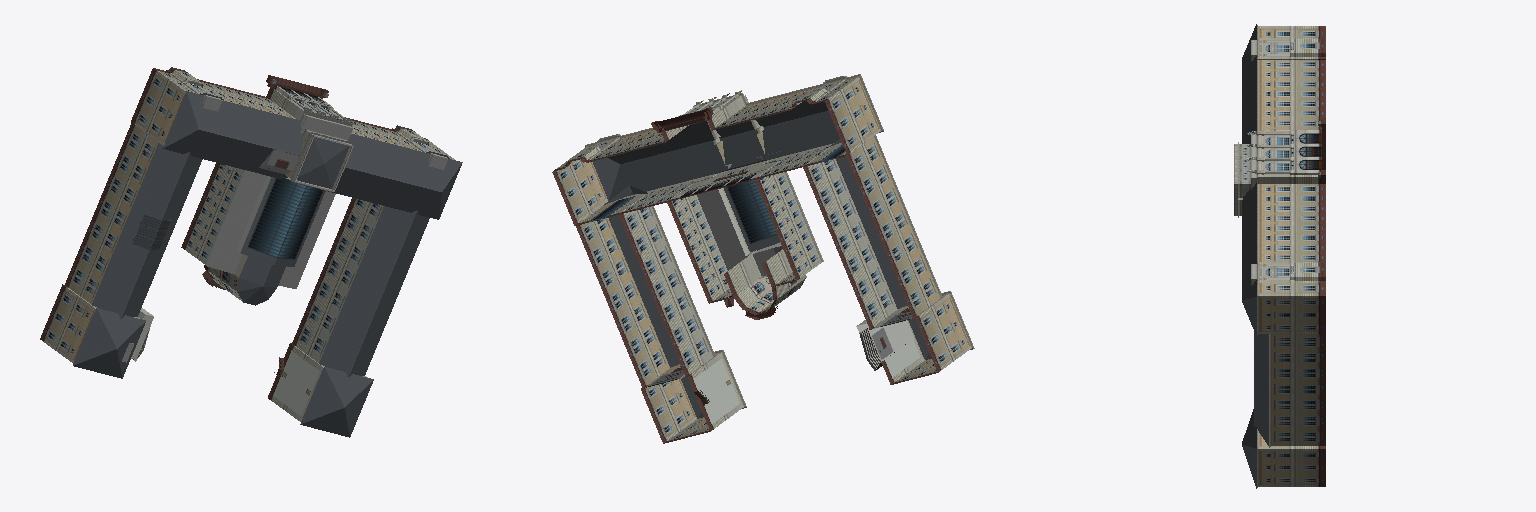
3 renders of one model, left to right at view 1: azimuth 30°, elevation 25°; view 2: azimuth 150°, elevation 25°; view 3: azimuth 270°, elevation 25°, orthographic.
Visible parts, largest first — view 1: S; view 2: S; view 3: S.
Part boxes in pixels (x1,y1,x2,y2): S: (40, 67, 462, 437); S: (552, 74, 974, 443); S: (1234, 24, 1325, 488).
Bounding box in the file's own units: 119 × 113 × 24.42.
Materials: 1 (1 with a texture image).